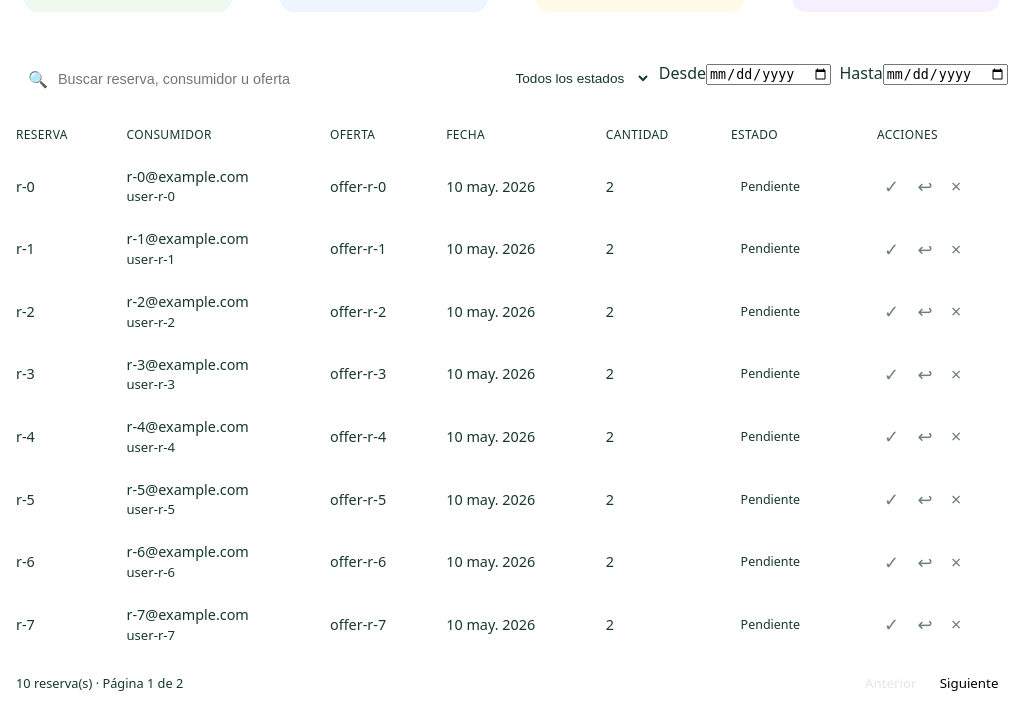
Test: ReservationsPanel › paginates reservations and resets the page when filtering
This screenshot has width=1024, height=710.
(page scrolled)
Click the button "Siguiente" at (969,683), box [930,669,1008,697]
(page scrolled)
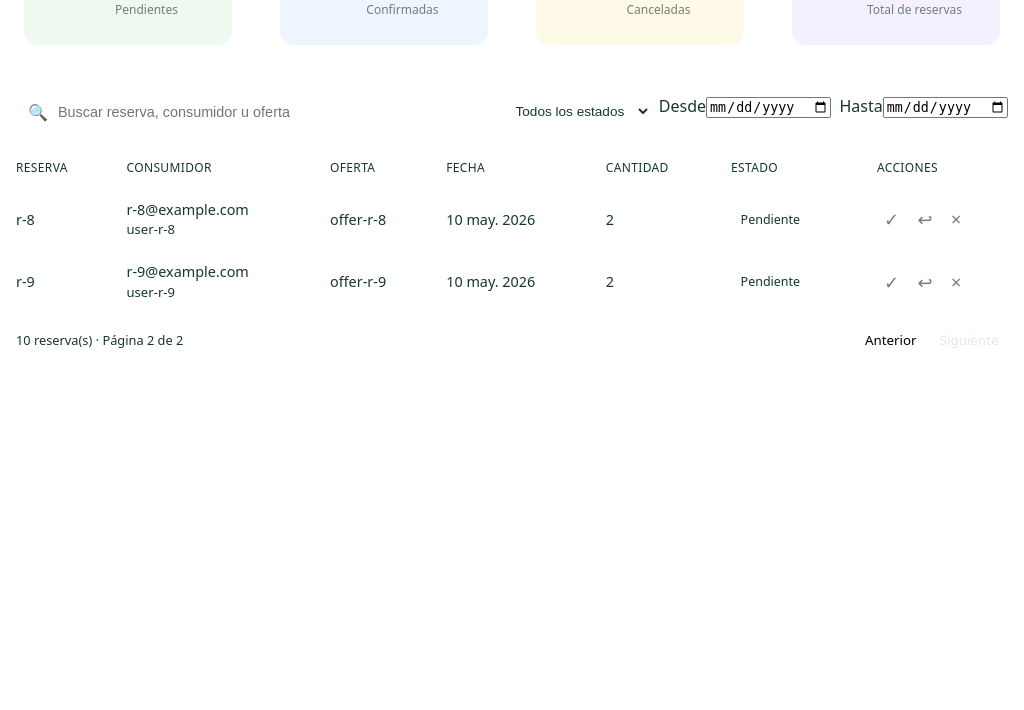
Result: the number of rows is 3 at [0,147,1023,188]; [0,188,1023,250]; [0,250,1023,313]
Result: the text "r-8" is shown at [16,210,35,229]
Type "r-1" into the field named "Buscar reservas" at (267,112), box [56,103,477,121]
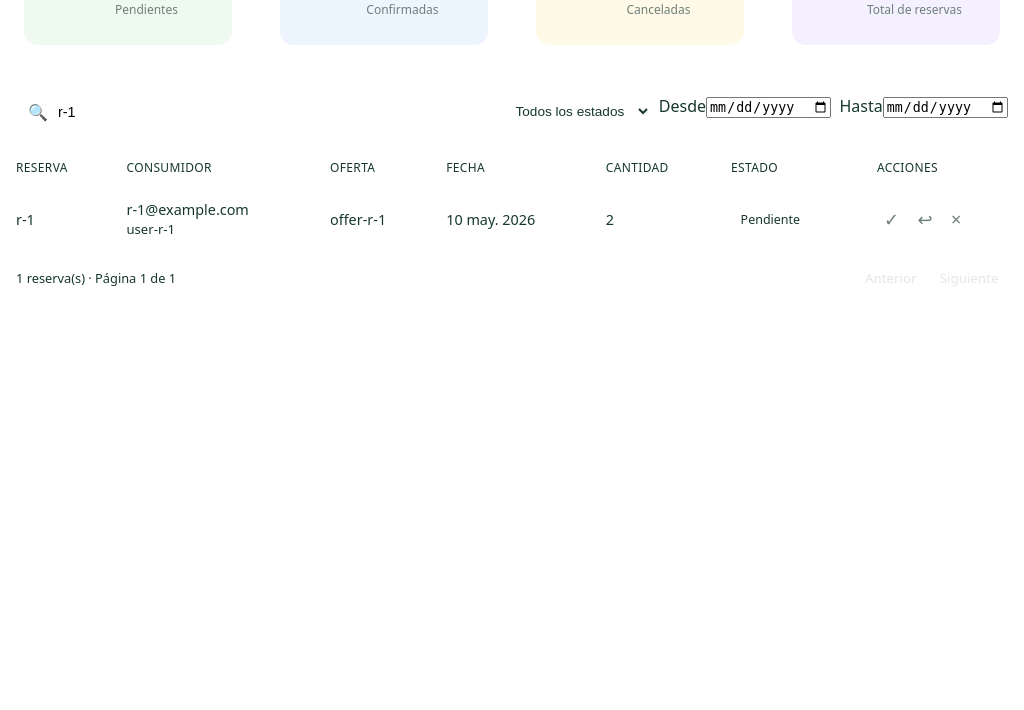
Result: the text "1 reserva(s) · Página 1 de 1" is shown at [16,269,176,287]
